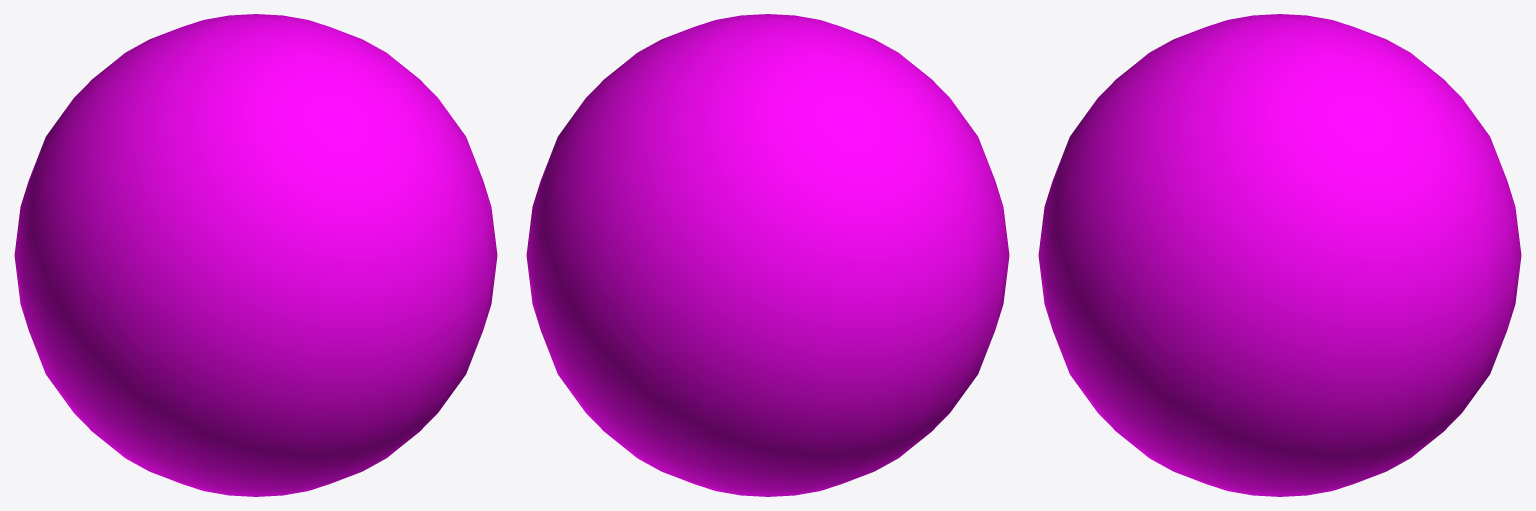
File: beach_ball.glb
3 views of the same model, side by side, from view 1: azimuth 30°, elevation 25°; view 2: azimuth 150°, elevation 25°; view 3: azimuth 270°, elevation 25° (orthographic).
Visible parts, largest first — view 1: beach_ball; view 2: beach_ball; view 3: beach_ball.
Boxes of the visible parts, box(x1,y1,x2,y2) form: beach_ball: box(14, 14, 497, 496); beach_ball: box(526, 14, 1009, 496); beach_ball: box(1038, 14, 1521, 496).
Size of the model in its own units: 0.84 by 0.84 by 0.84.
